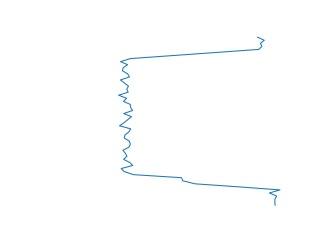distributaryChannelFill: (115, 35, 283, 208)
